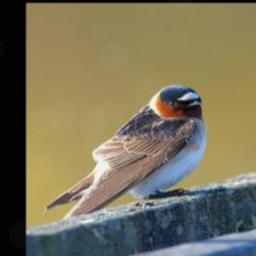Swallow: (42, 84, 208, 224)
